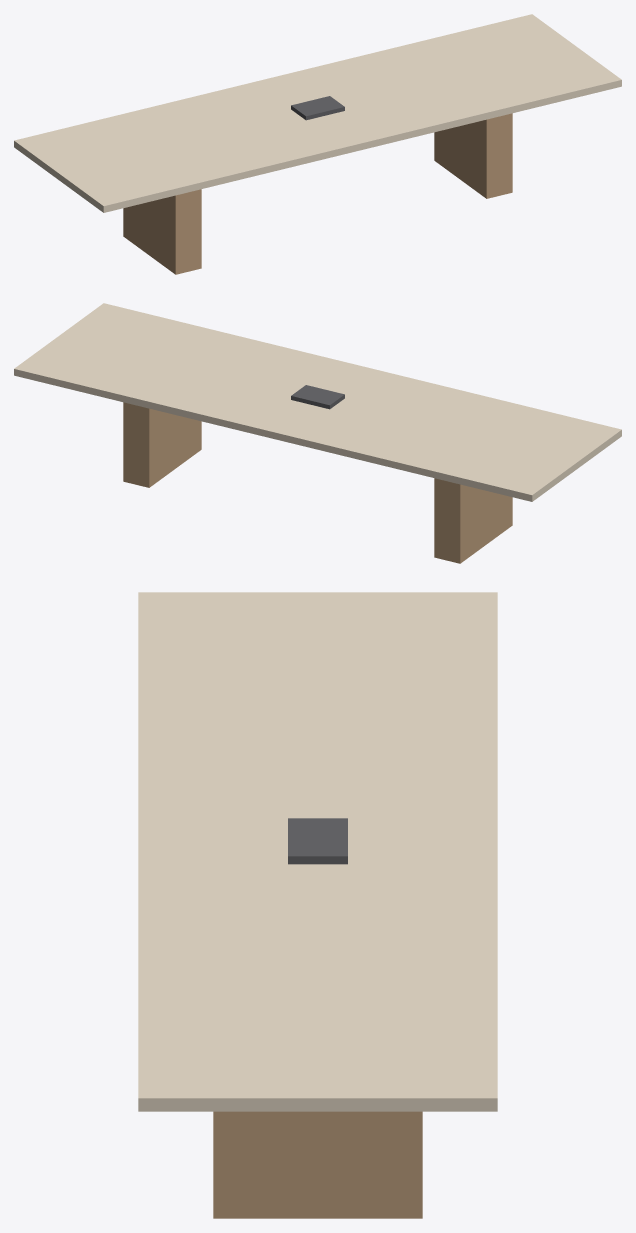
The model's file is Table_Meeting.fbx.
3 renders of one model, top to bottom at view 1: azimuth 30°, elevation 25°; view 2: azimuth 150°, elevation 25°; view 3: azimuth 270°, elevation 25°, orthographic. The views are drawn at different scales.
Visible parts, largest first — view 1: Table_Meeting; view 2: Table_Meeting; view 3: Table_Meeting.
Boxes of the visible parts, box(x1,y1,x2,y2) form: Table_Meeting: box(14, 14, 621, 274); Table_Meeting: box(14, 303, 621, 563); Table_Meeting: box(138, 592, 497, 1218).
Size of the model in its own units: 4 by 0.8 by 1.2.
